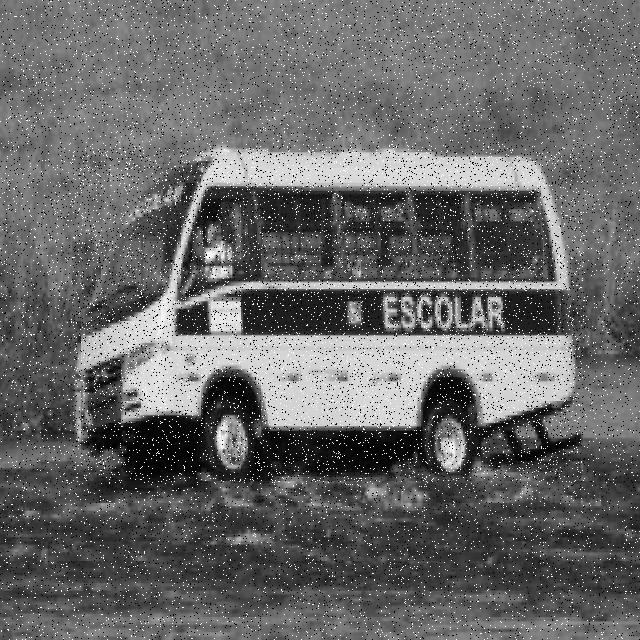Bus- Small: (73, 146, 585, 482)
